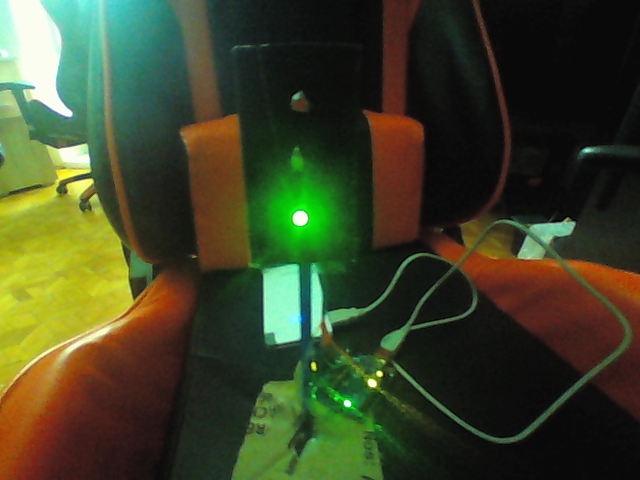red_light: (227, 40, 358, 266)
